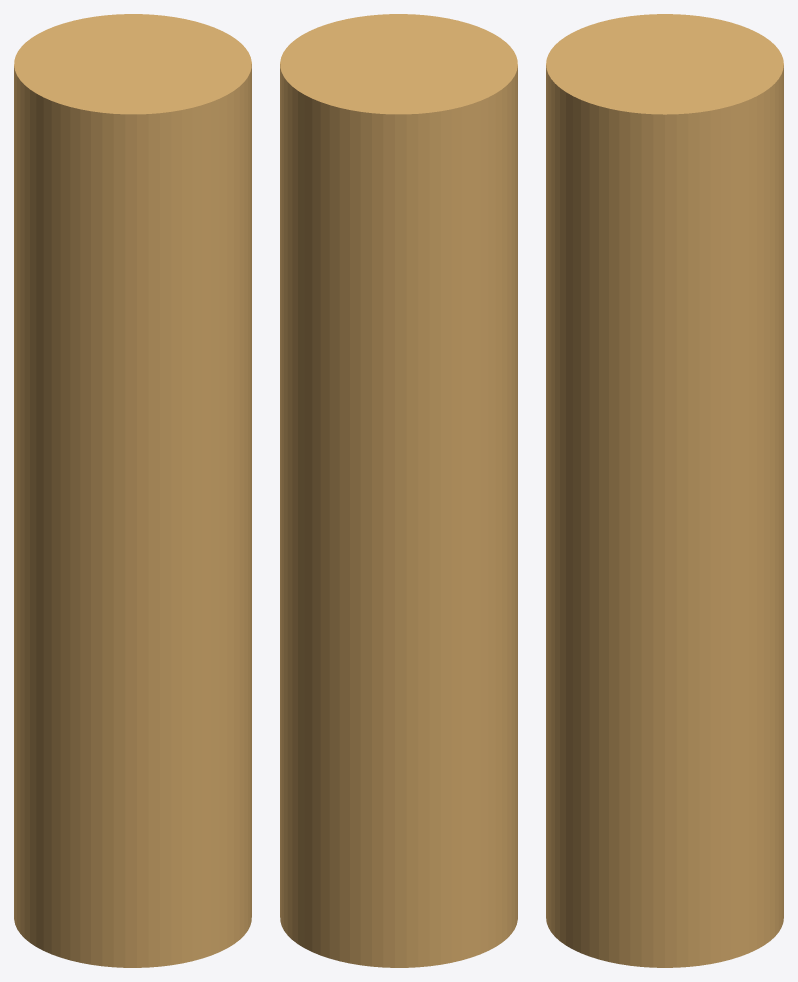
3 renders of one model, left to right at view 1: azimuth 30°, elevation 25°; view 2: azimuth 150°, elevation 25°; view 3: azimuth 270°, elevation 25°, orthographic.
Parts seen in each view (by area): view 1: Cylinder.024; view 2: Cylinder.024; view 3: Cylinder.024.
Boxes of the visible parts, box(x1,y1,x2,y2) form: Cylinder.024: box(14, 14, 251, 967); Cylinder.024: box(280, 14, 517, 967); Cylinder.024: box(546, 14, 783, 967).
Size of the model in its own units: 0.00563 by 0.0223 by 0.00563.
